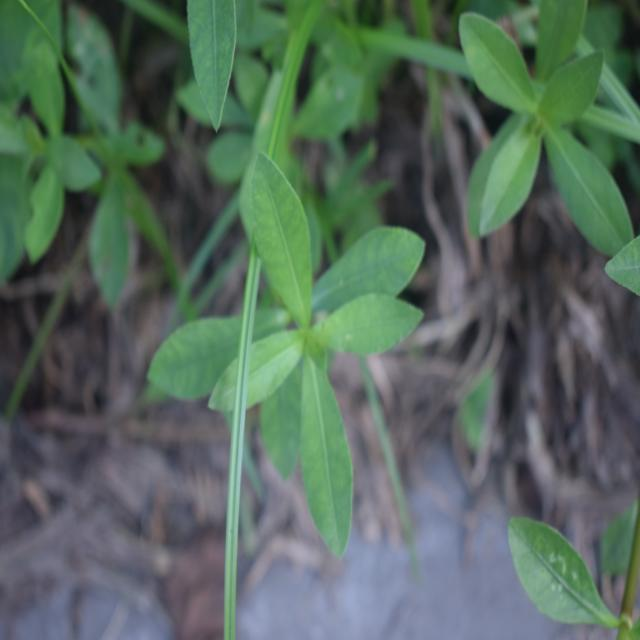Alligatorweed: (171, 166, 413, 524), (443, 6, 624, 283)
